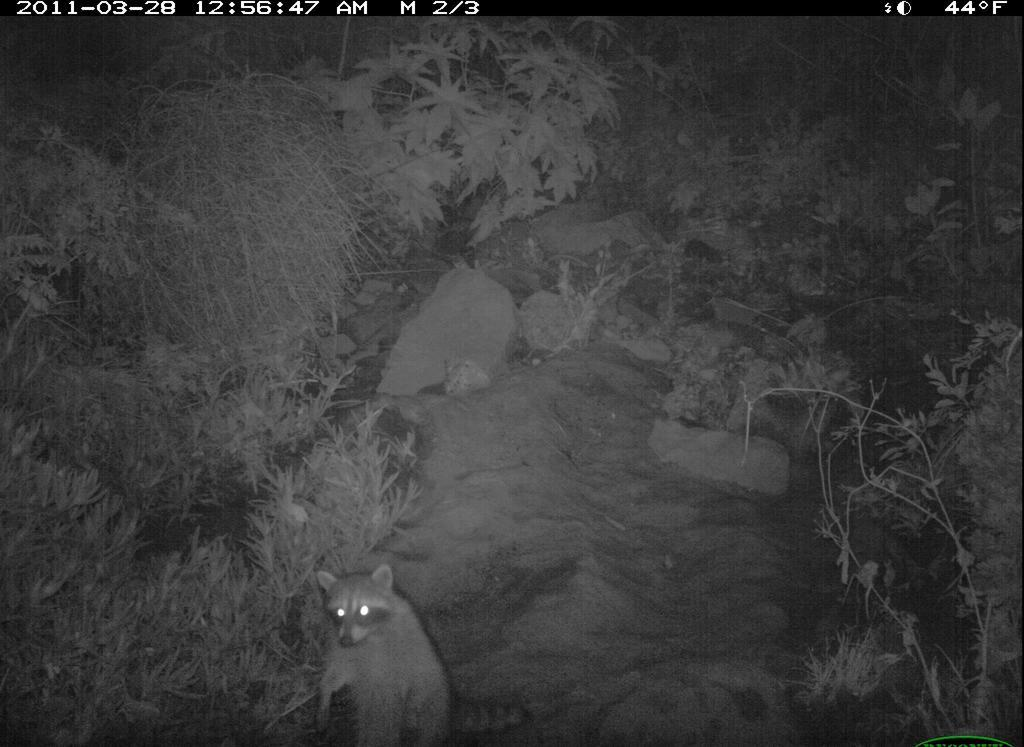raccoon: (282, 546, 483, 747)
